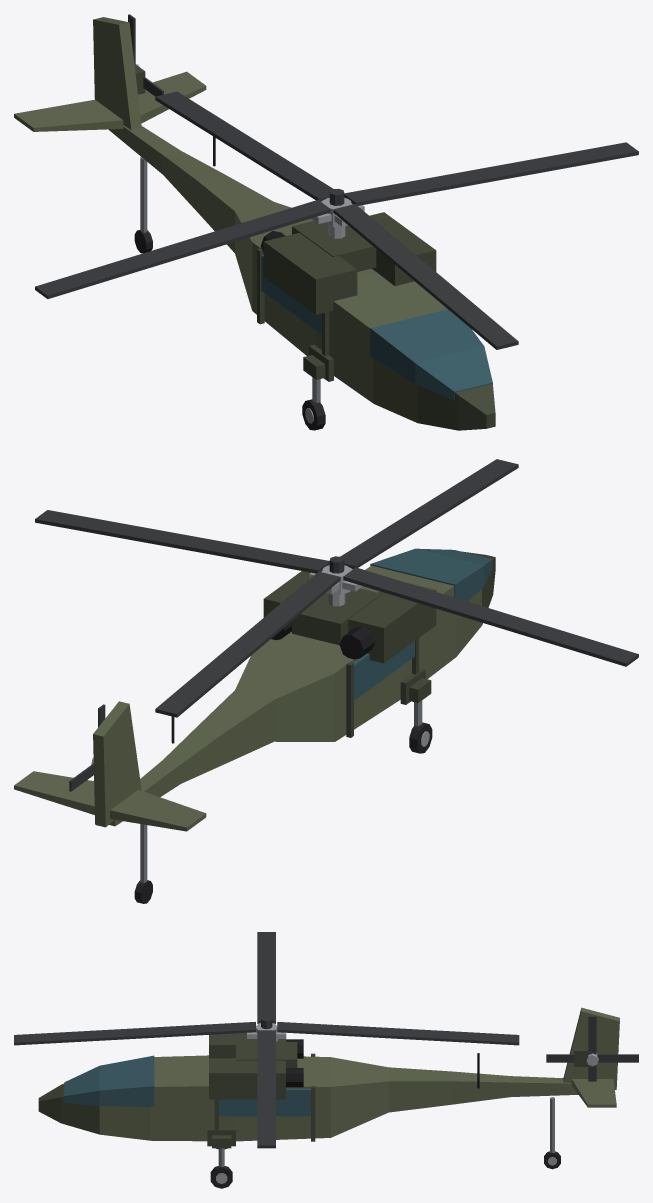
File: Unit_TransportHeli.obj
The picture shows the model from 3 angles, top to bottom: view 1: azimuth 30°, elevation 25°; view 2: azimuth 150°, elevation 25°; view 3: azimuth 270°, elevation 25°; orthographic projection. The views are drawn at different scales.
Size of the model in its own units: 15.74 by 5.45 by 19.46.
